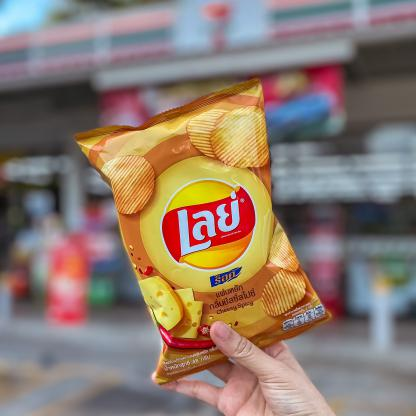potatochip: (72, 71, 340, 388)
